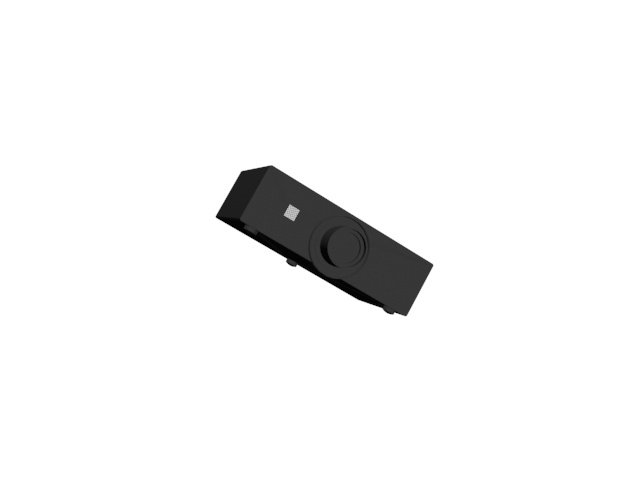projector: (209, 161, 440, 320)
